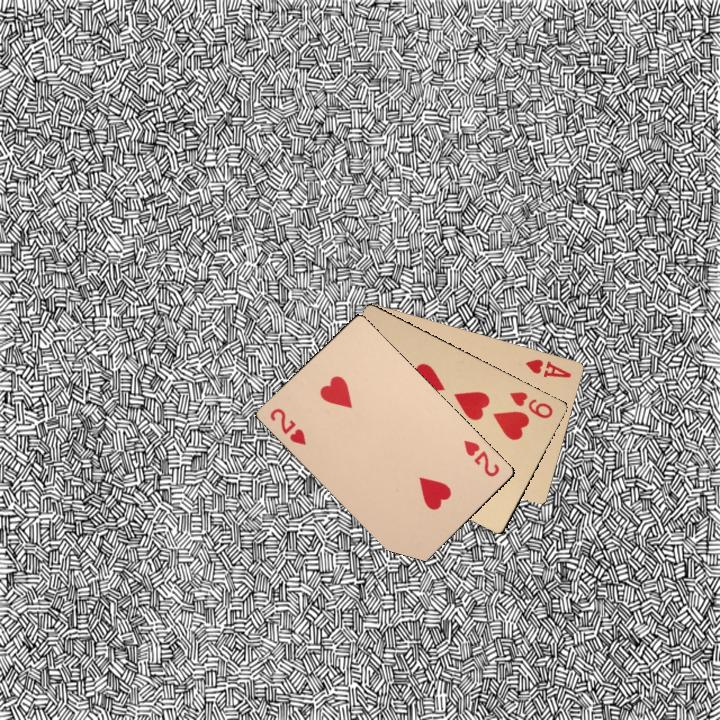2h: (266, 404, 309, 448), (460, 436, 502, 479)
9h: (505, 387, 555, 421)
Ah: (521, 355, 574, 380)
